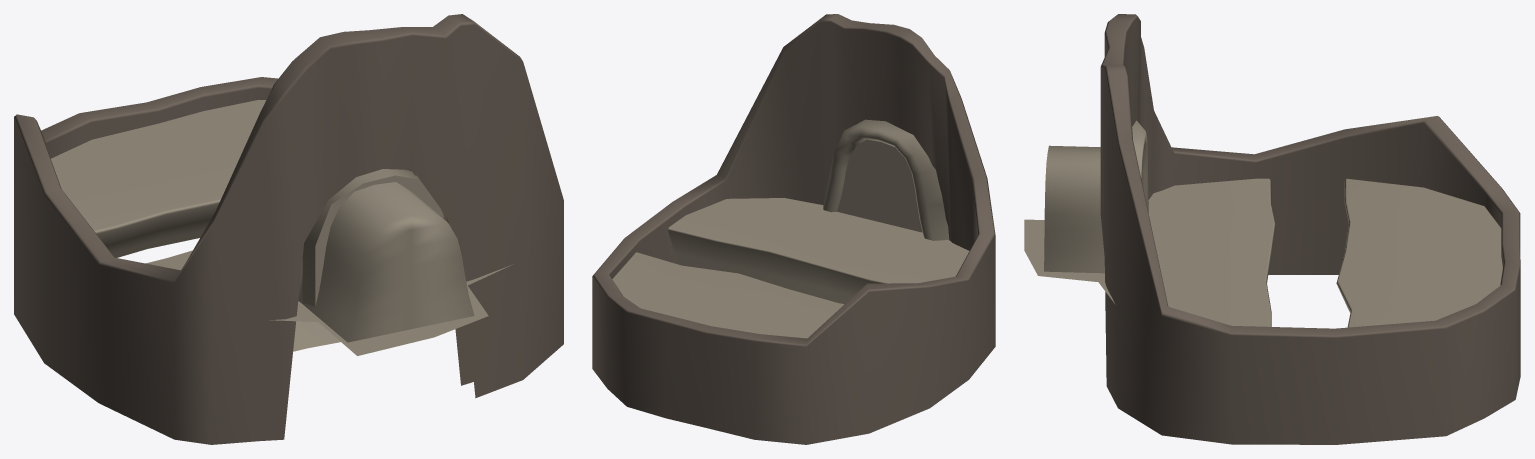
Rendered from Level_Boss_final.fbx.
The picture shows the model from 3 angles, left to right: view 1: azimuth 30°, elevation 25°; view 2: azimuth 150°, elevation 25°; view 3: azimuth 270°, elevation 25°; orthographic projection. The views are drawn at different scales.
Visible parts, largest first — view 1: terrain, ground_bottom, door_frame, ground_top, door; view 2: terrain, ground_top, ground_bottom, door, door_frame; view 3: terrain, ground_bottom, ground_top, door_frame.
Boxes of the visible parts, x1,y1,x2,y2 form: terrain: (14,14,563,444); ground_bottom: (51,100,265,257); door_frame: (298,169,474,342); ground_top: (145,250,513,355); door: (302,169,443,306); terrain: (592,14,995,444); ground_top: (668,198,969,304); ground_bottom: (612,252,843,338); door: (837,139,922,232); door_frame: (823,119,949,240); terrain: (1100,14,1520,444); ground_bottom: (1336,178,1502,327); ground_top: (1024,178,1275,326); door_frame: (1044,120,1148,273).
Bounding box in the file's own units: 19.7 × 16.78 × 23.68.
